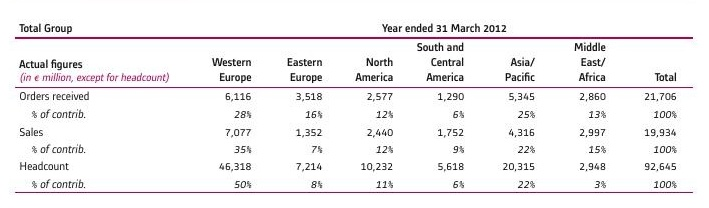table: (0, 0, 709, 208)
